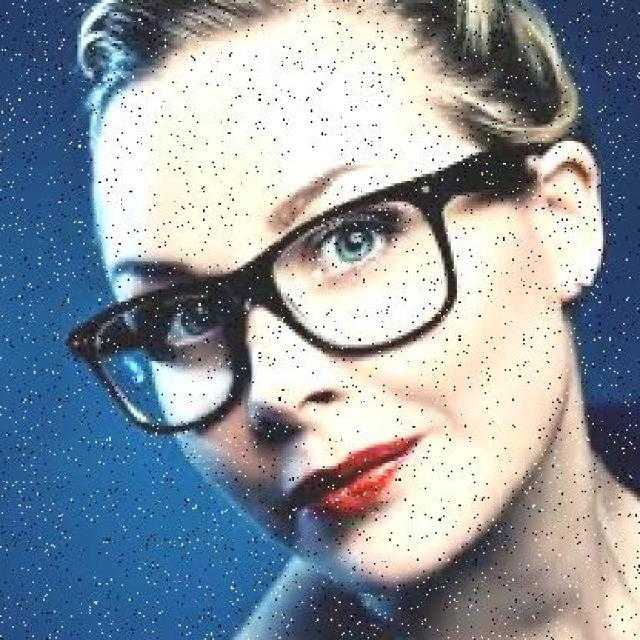mask: (50, 160, 470, 446)
